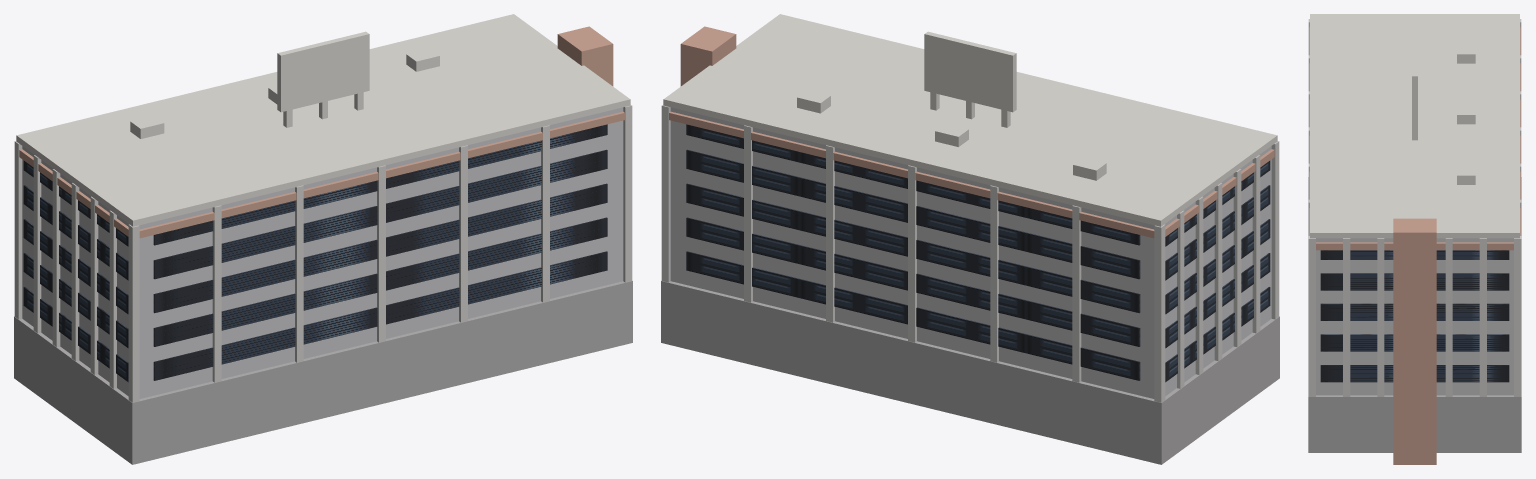
File: skyline-tower-midrise-billboard.glb
The picture shows the model from 3 angles, left to right: view 1: azimuth 30°, elevation 25°; view 2: azimuth 150°, elevation 25°; view 3: azimuth 270°, elevation 25°; orthographic projection. The views are drawn at different scales.
Parts seen in each view (by area): view 1: parapet, windows, body-1, podium, pilasters, roof-detail, crown-band, core; view 2: parapet, windows, body-1, podium, pilasters, roof-detail, crown-band, core; view 3: parapet, core, body-1, podium, windows, pilasters, roof-detail, crown-band.
Boxes of the visible parts, <box> form: parapet: <box>16,14,630,226</box>; windows: <box>23,124,607,382</box>; body-1: <box>22,107,623,398</box>; podium: <box>14,281,632,464</box>; pilasters: <box>14,105,632,402</box>; roof-detail: <box>130,31,439,138</box>; crown-band: <box>19,111,624,238</box>; core: <box>557,26,613,86</box>; parapet: <box>663,14,1277,226</box>; windows: <box>686,124,1270,382</box>; body-1: <box>670,107,1271,398</box>; podium: <box>661,281,1279,464</box>; pilasters: <box>661,105,1279,402</box>; roof-detail: <box>797,31,1106,180</box>; crown-band: <box>669,111,1274,238</box>; core: <box>680,26,736,86</box>; parapet: <box>1310,14,1519,238</box>; core: <box>1393,218,1436,464</box>; body-1: <box>1316,238,1513,395</box>; podium: <box>1308,177,1521,452</box>; windows: <box>1320,250,1509,382</box>; pilasters: <box>1308,19,1521,396</box>; roof-detail: <box>1412,37,1475,184</box>; crown-band: <box>1309,27,1520,250</box>.
Bounding box in the file's own units: 53.6 × 30.75 × 20.8.
Materials: 6 (1 with a texture image).
